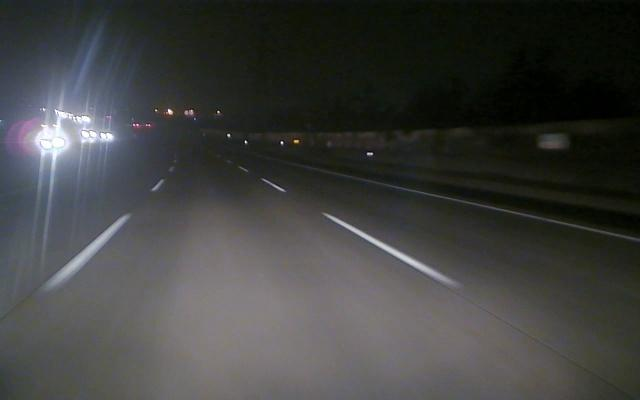lane: (264, 180, 463, 288), (356, 178, 637, 243), (40, 179, 164, 296)
